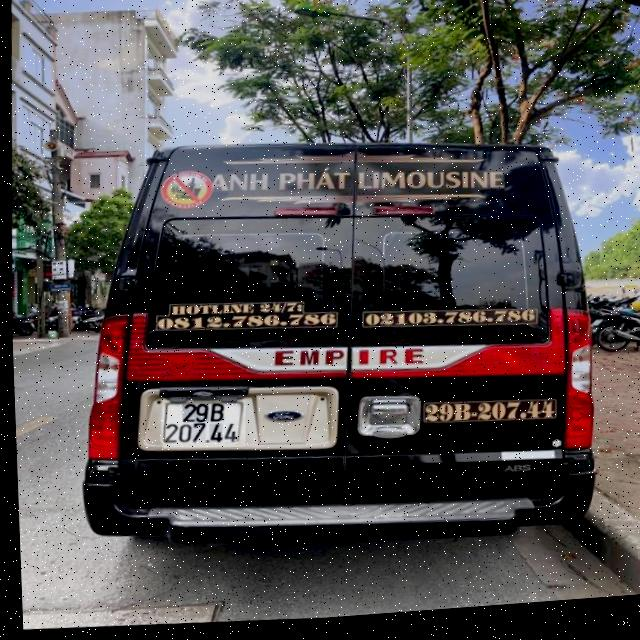car: (72, 90, 621, 577)
motorcycle: (593, 292, 640, 355)
plate: (147, 385, 266, 461)
